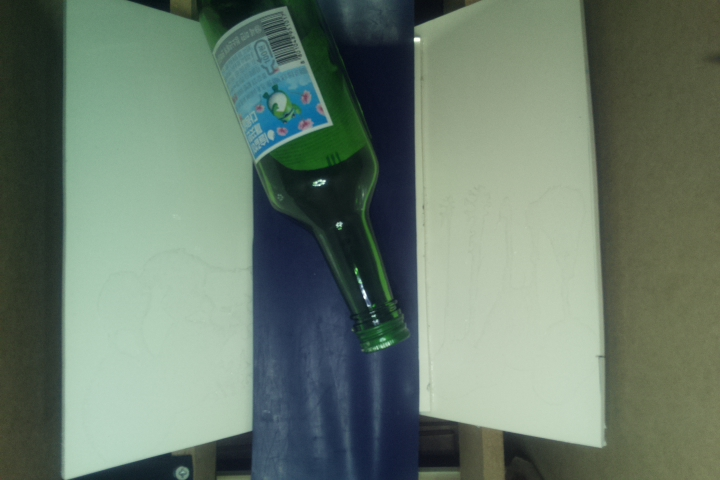soju: (195, 1, 416, 354)
